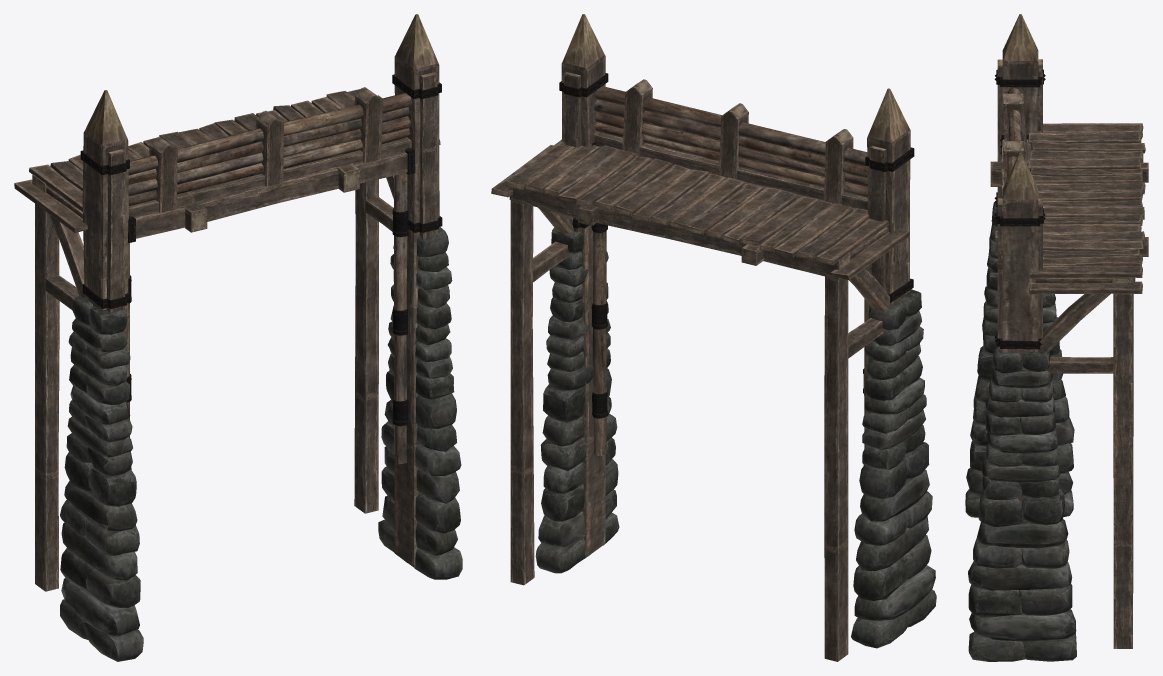
Rendered from jav_struc_def_Stone_t2_gateframe-transformed.glb.
3 renders of one model, left to right at view 1: azimuth 30°, elevation 25°; view 2: azimuth 150°, elevation 25°; view 3: azimuth 270°, elevation 25°, orthographic. The views are drawn at different scales.
Parts seen in each view (by area): view 1: default; view 2: default; view 3: default.
Boxes of the visible parts, x1,y1,x2,y2 form: default: (14, 14, 462, 661); default: (491, 14, 936, 661); default: (965, 14, 1148, 661).
Bounding box in the file's own units: 8.7 × 12.49 × 4.13.
Materials: 2 (2 with a texture image).
